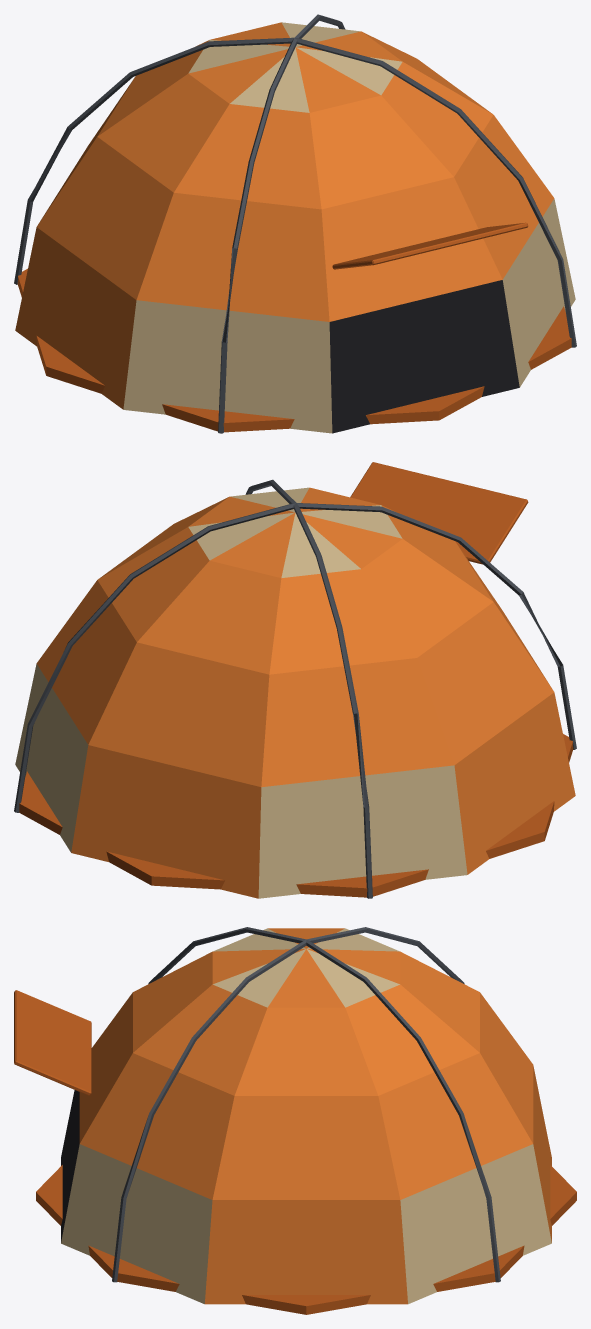
The model's file is SM_Tent_Dome.glb.
3 views of the same model, one above another, from view 1: azimuth 30°, elevation 25°; view 2: azimuth 150°, elevation 25°; view 3: azimuth 270°, elevation 25° (orthographic). The views are drawn at different scales.
Visible parts, largest first — view 1: SM_Tent_Dome; view 2: SM_Tent_Dome; view 3: SM_Tent_Dome.
Boxes of the visible parts, x1,y1,x2,y2 form: SM_Tent_Dome: (14, 14, 576, 433); SM_Tent_Dome: (14, 462, 576, 898); SM_Tent_Dome: (14, 927, 576, 1314).
Bounding box in the file's own units: 2.24 × 1.19 × 2.33.
1 material, 1 textured.
